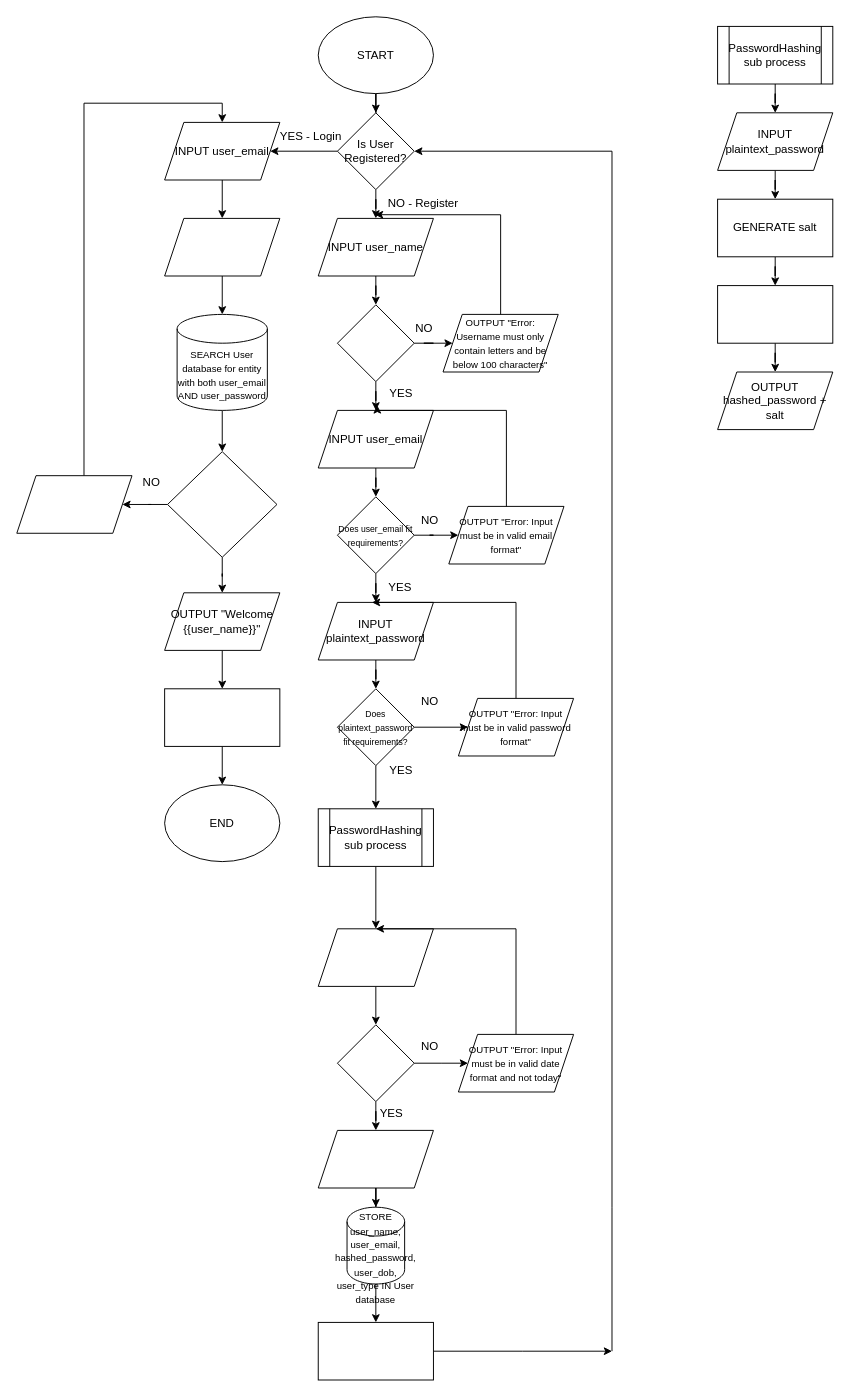
This 850x1397 diagram has some shape labels left out. The box of each missing label's shape, as (x1, y1, x2, y2) in pixels:
APPLY hashing (algorithm + salt + plaintext_password): (717, 285, 833, 343)
Does User with user_email AND user_password exist within User database?: (167, 451, 277, 557)
Does user_name fit requirements?: (336, 304, 414, 382)
INPUT user_dob: (317, 928, 433, 986)
INPUT user_password: (164, 217, 280, 276)
INPUT user_type: (317, 1129, 433, 1188)
Is user_dob a date AND not today?: (336, 1024, 414, 1102)
OUTPUT "Error: User does not exist, invalid email or password": (16, 475, 132, 533)
REDIRECT to Dashboard: (164, 688, 280, 746)
REDIRECT to login page: (317, 1321, 433, 1380)
